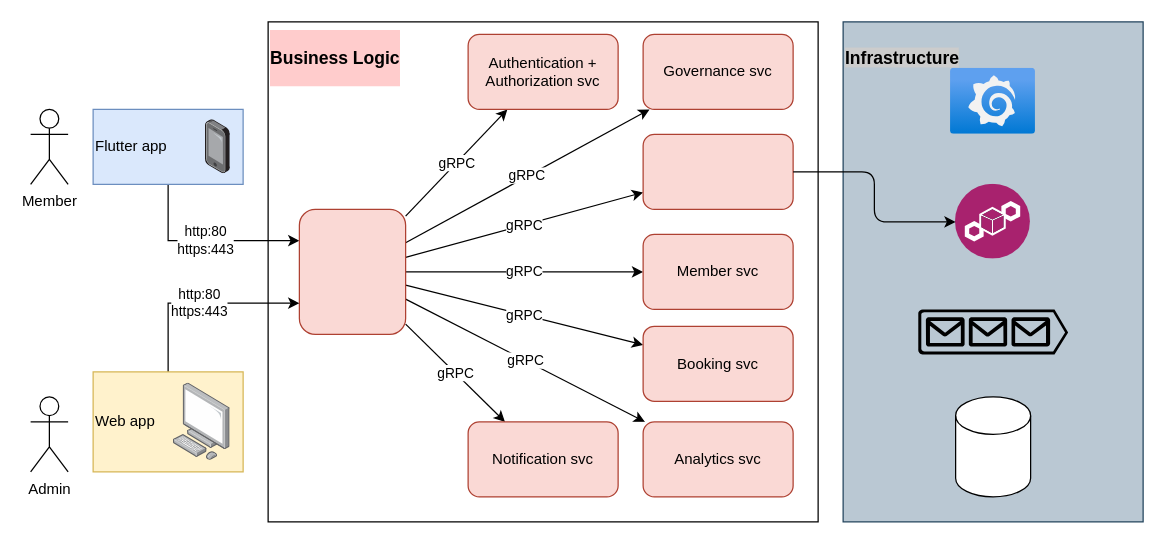
Some shapes in this 1165 by 544 pixel diagram are drawn without their labels. The shapes that lost their labels are listed below. From the top down, each one's centre as x and y in pixels, then its label:
the point at 992,101: Monitoring
the point at 717,171: Blockchain svc
the point at 992,221: Hyperledger blockchain
the point at 352,271: API Gateway GraphQL
the point at 993,331: NATS
the point at 992,446: Postgres
